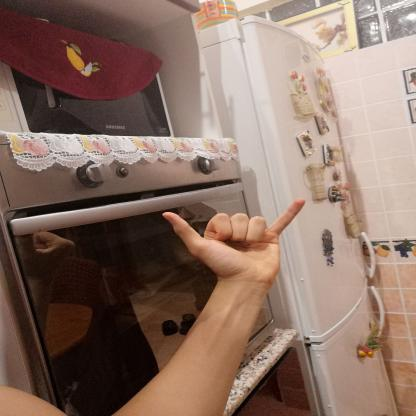YA: (147, 191, 317, 293)
